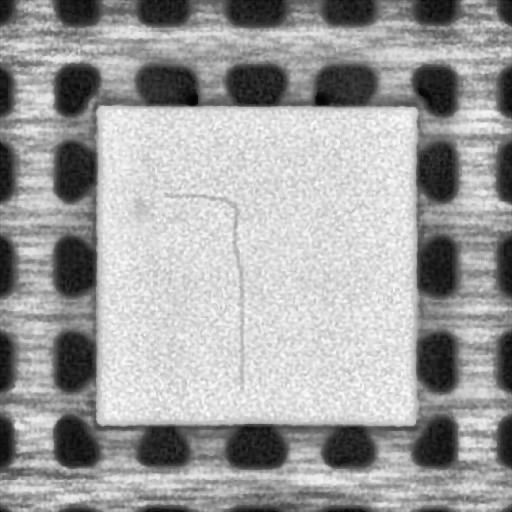DIE_CRACK: (164, 187, 246, 391)
